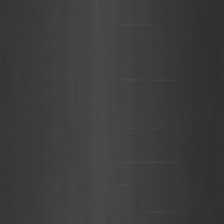waist_folding: (123, 19, 189, 194)
